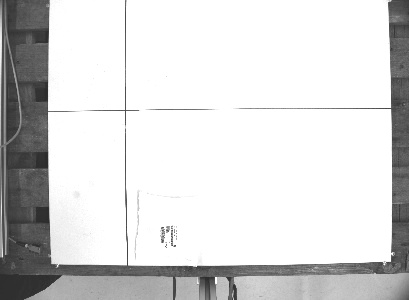t3: (132, 188, 202, 268)
